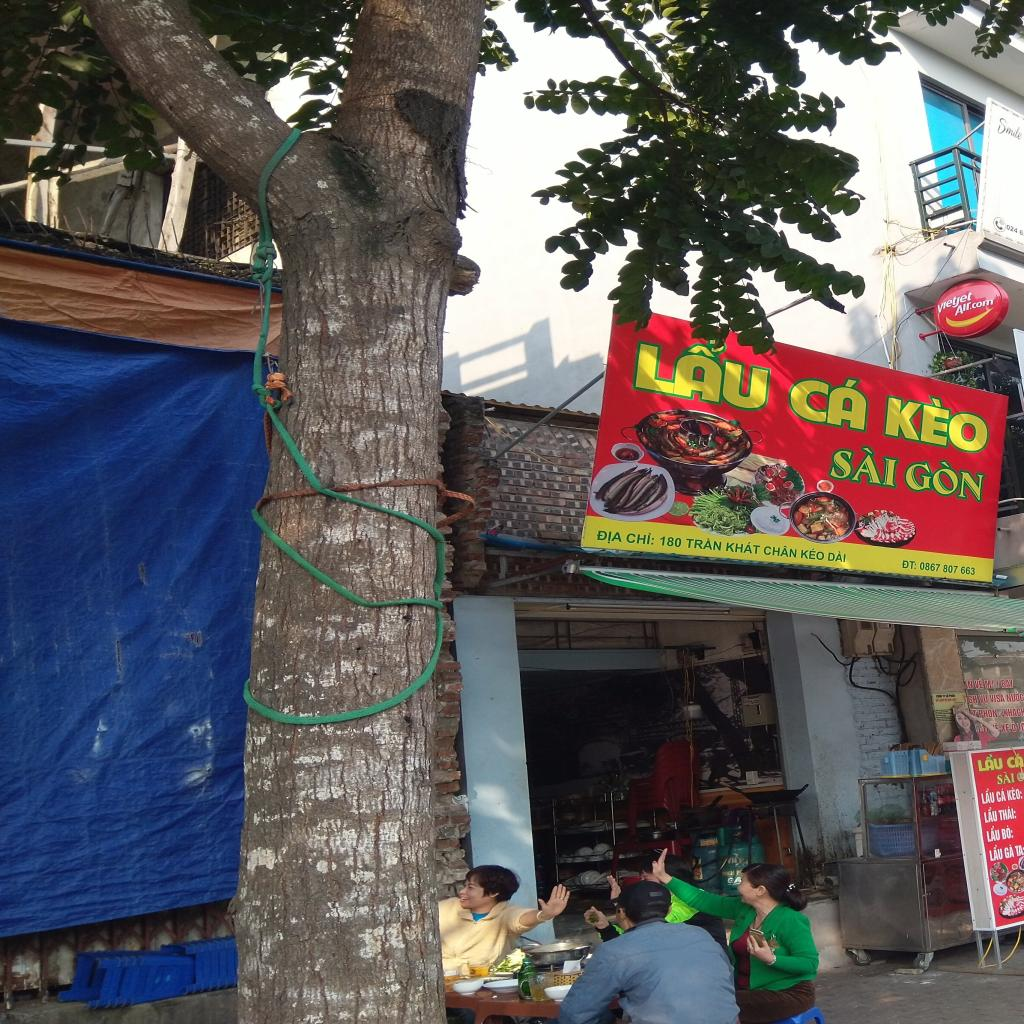text: (630, 324, 773, 413), (881, 387, 995, 458), (783, 364, 874, 435), (895, 453, 987, 504), (824, 440, 904, 489), (950, 294, 994, 318), (936, 290, 974, 314), (919, 562, 977, 576), (996, 116, 1024, 142), (682, 534, 724, 551), (974, 751, 1005, 773), (761, 544, 800, 559), (721, 540, 761, 554), (595, 528, 626, 546), (623, 530, 657, 546), (656, 534, 684, 550), (800, 546, 826, 561), (991, 771, 1015, 786), (976, 787, 996, 805), (998, 804, 1018, 821), (826, 548, 848, 563), (986, 844, 1004, 862), (1004, 785, 1024, 801), (982, 806, 1000, 823), (1004, 753, 1023, 769), (986, 824, 1001, 843), (1000, 824, 1016, 841), (1004, 223, 1023, 237), (1000, 706, 1024, 717), (978, 708, 1004, 718), (900, 558, 919, 570), (984, 677, 1001, 690), (994, 786, 1007, 803), (989, 693, 1007, 704), (1004, 692, 1023, 702), (1003, 844, 1015, 858), (977, 694, 990, 706), (1013, 843, 1024, 857), (1001, 679, 1015, 689), (727, 876, 744, 884), (725, 856, 739, 865), (974, 677, 984, 689), (1000, 723, 1012, 733), (1015, 720, 1024, 732), (968, 694, 978, 704), (1010, 720, 1017, 732), (966, 679, 974, 689), (948, 693, 957, 698), (935, 694, 943, 697), (945, 694, 950, 698), (943, 694, 947, 698)
